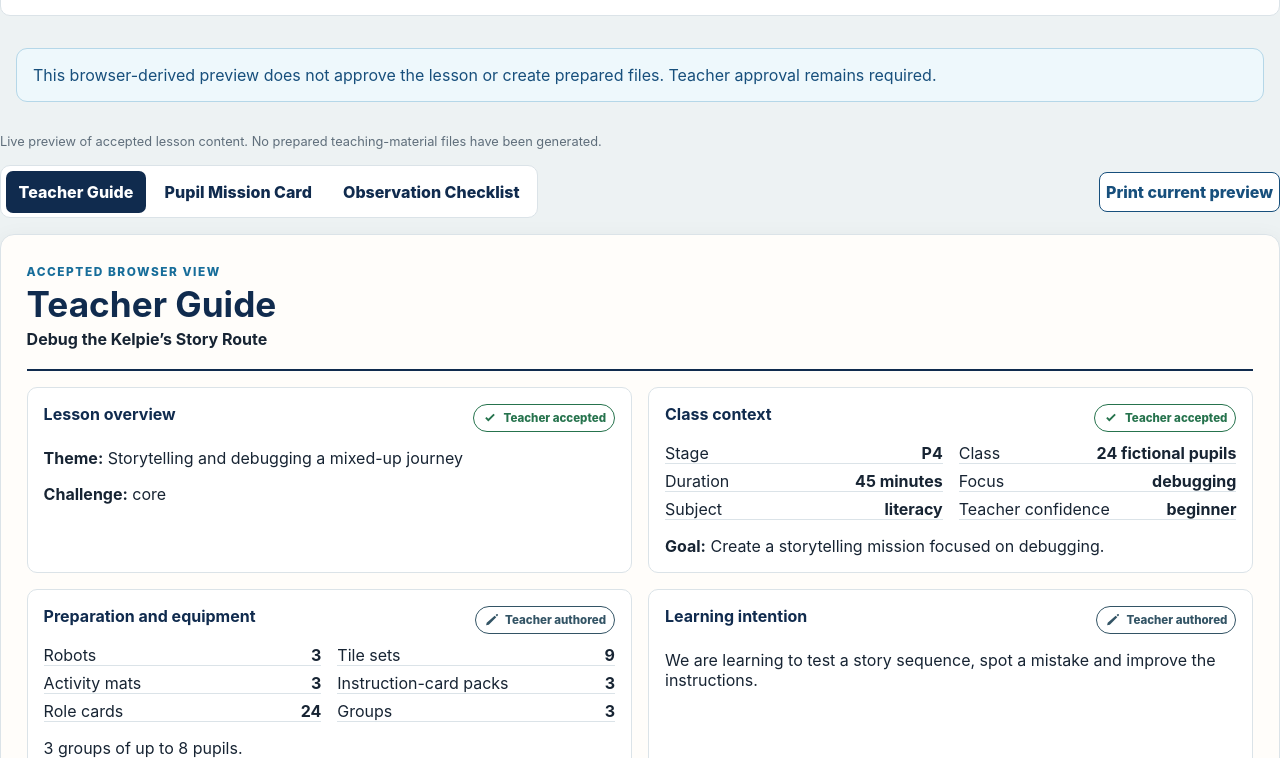
Test case: accepted lesson preview › maps the pupil card and does not invent group roles or preparation prose
Click the button "Pupil Mission Card".
click(238, 192)  # box x1=152 y1=171 x2=325 y2=213
(page scrolled)
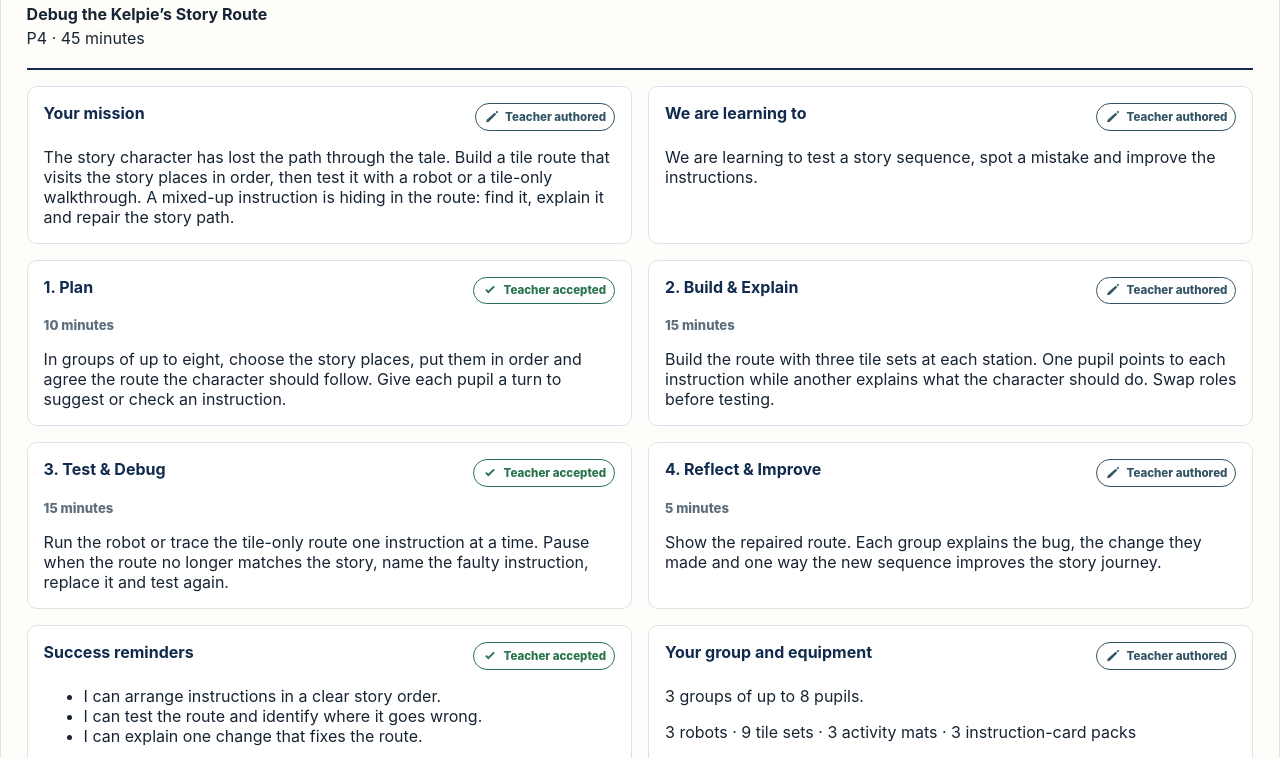
Expected: the element "Pupil Mission Card" shows "The story character has lost the path through the tale. Build a tile route that visits the story places in order, then test it with a robot or a tile-only walkt", x1=44 y1=147 x2=610 y2=227
Expected: the element "Pupil Mission Card" shows "We are learning to test a story sequence, spot a mistake and improve the instructions.", x1=665 y1=147 x2=1216 y2=187
